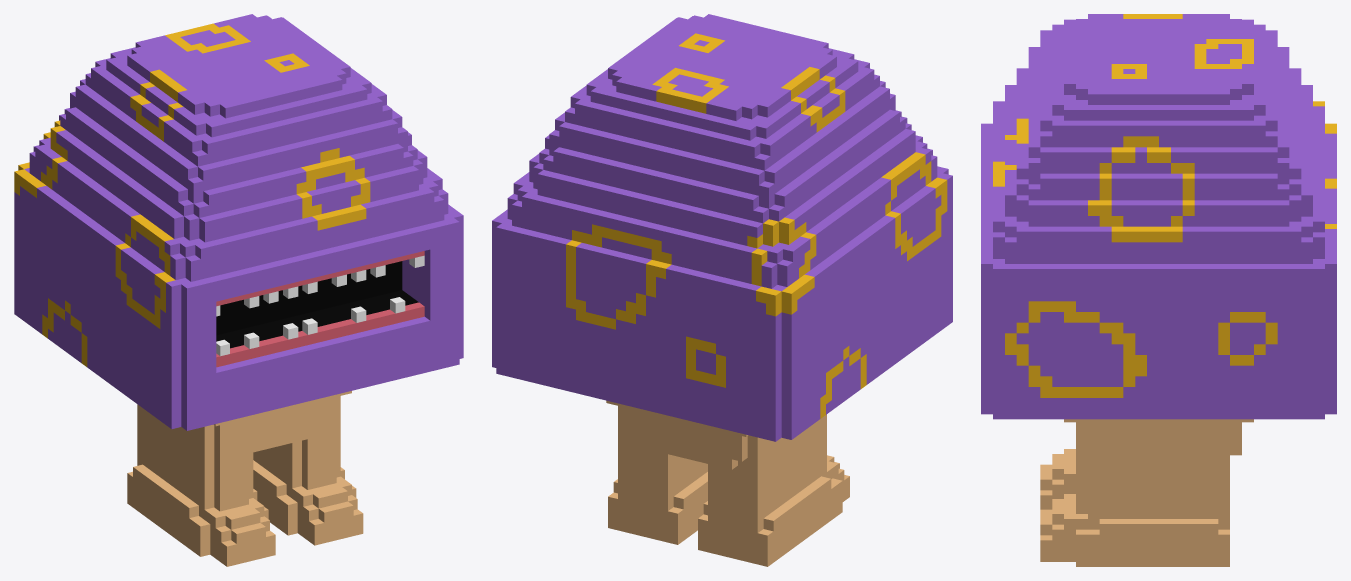
File: MushroomEnemy.obj
3 renders of one model, left to right at view 1: azimuth 30°, elevation 25°; view 2: azimuth 150°, elevation 25°; view 3: azimuth 270°, elevation 25°, orthographic. The views are drawn at different scales.
Size of the model in its own units: 30 by 44 by 30.
